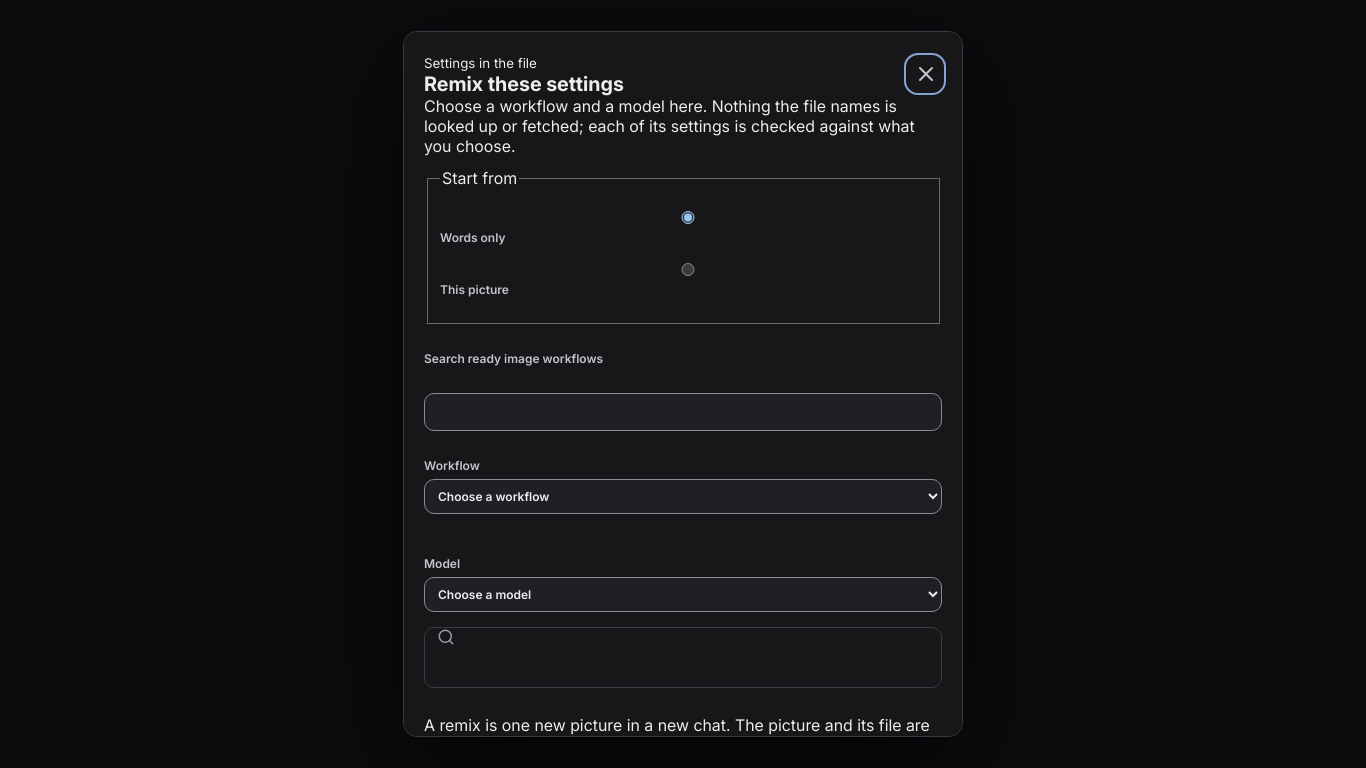
remix preview › checks the picture's settings only once a workflow and a model are chosen
The width and height of the screenshot is (1366, 768).
Select "Cups - Cup workflow · v1" in the dropdown labelled "Workflow": (683, 497) [424,479,942,514]
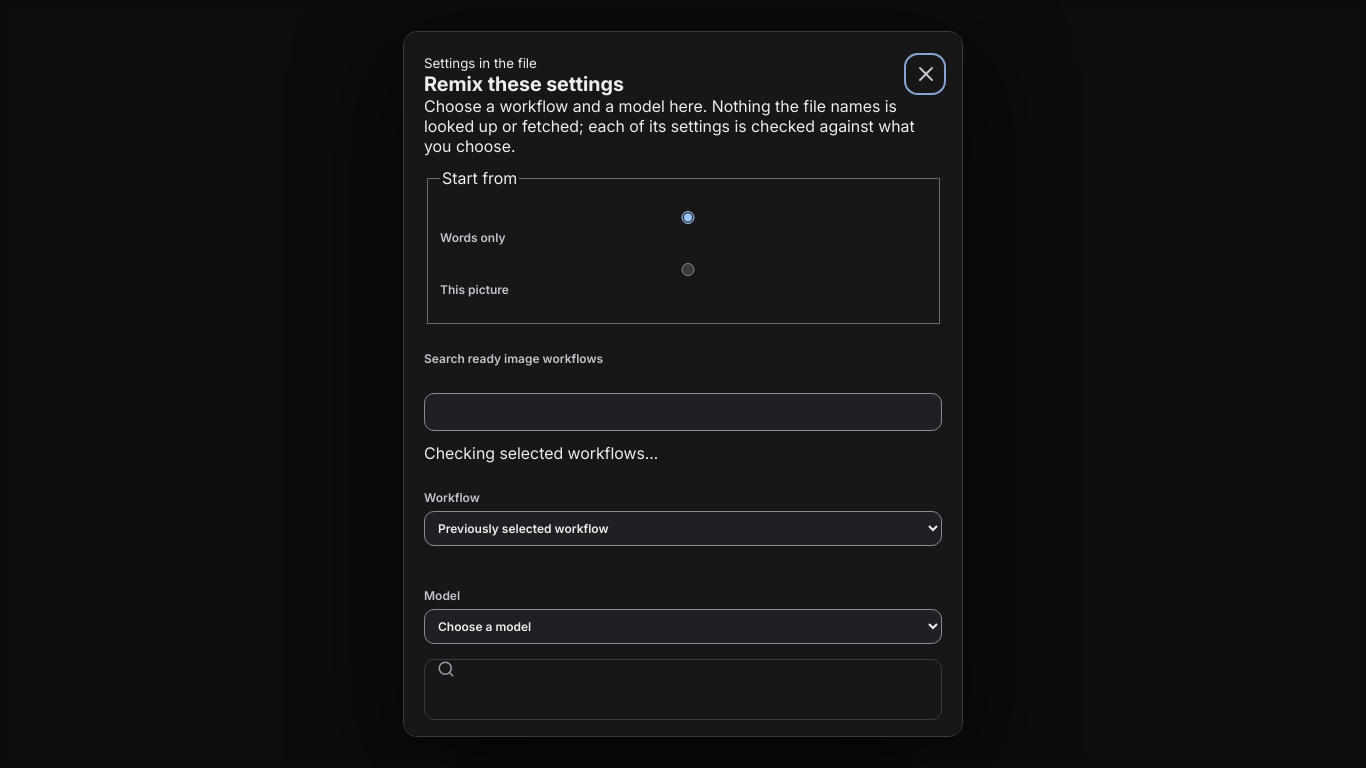
Select "Cup model" in the dropdown labelled "Model": (683, 627) [424,609,942,644]
(page scrolled)
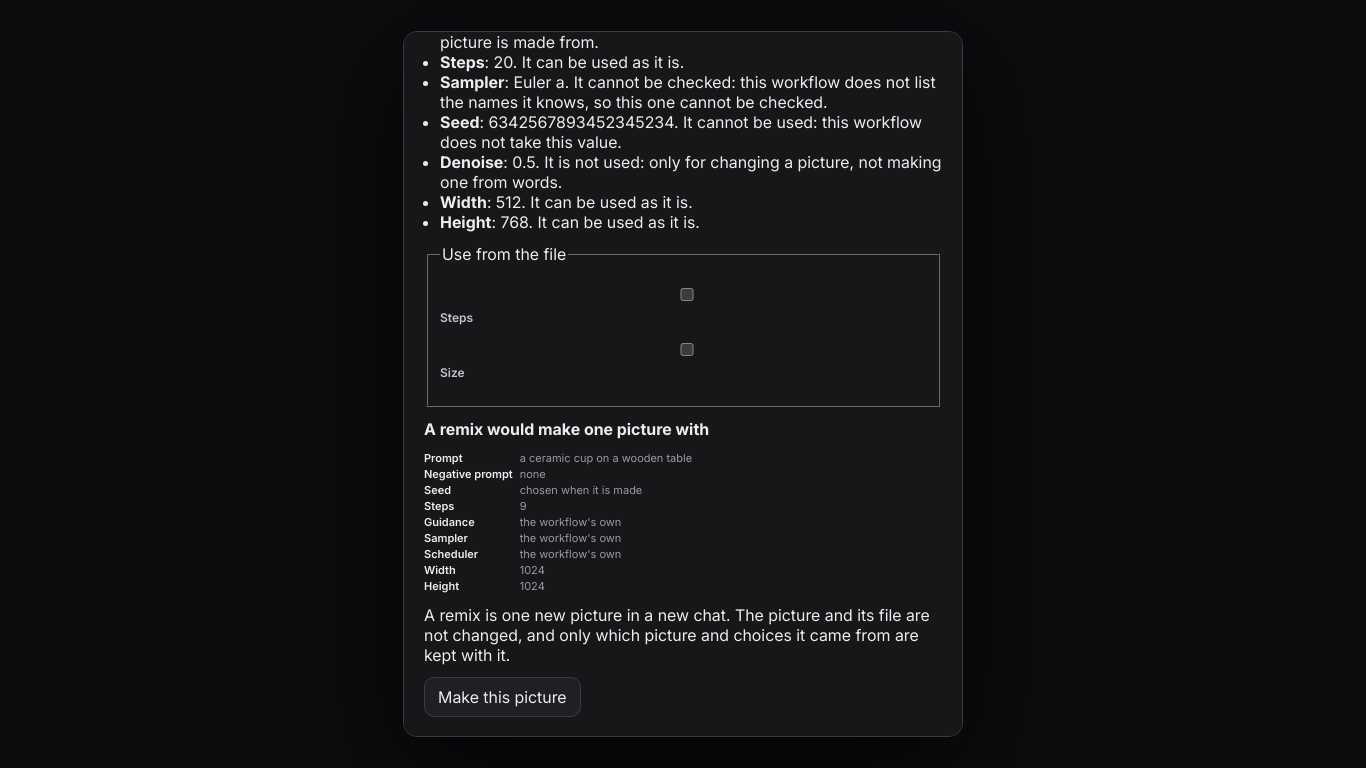
Now the text "A remix would make one picture with" is shown, box [424,419,709,439]
Now the list item that starts with "Sampler" shows "Sampler: Euler a. It cannot be checked: this workflow does not list the names it knows, so this one cannot be checked.", box [440,72,942,112]
Now the list item that starts with "Seed" shows "Seed: 6342567893452345234. It cannot be used: this workflow does not take this value.", box [440,112,942,152]
